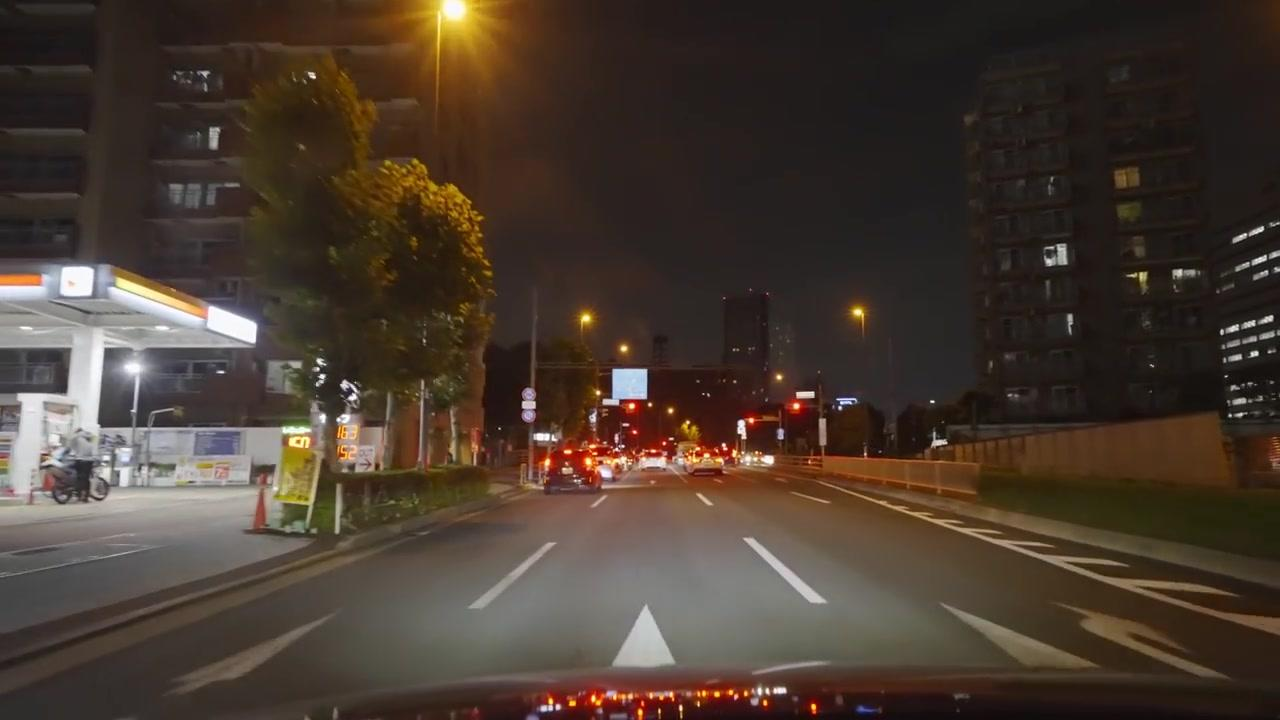car: (542, 447, 601, 494), (686, 454, 725, 478), (594, 457, 619, 482)
motorcycle: (42, 454, 112, 503)
person: (59, 430, 101, 501)
traffic light: (783, 399, 815, 435), (622, 401, 639, 417)
